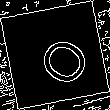O_NW: (22, 23, 88, 87)
